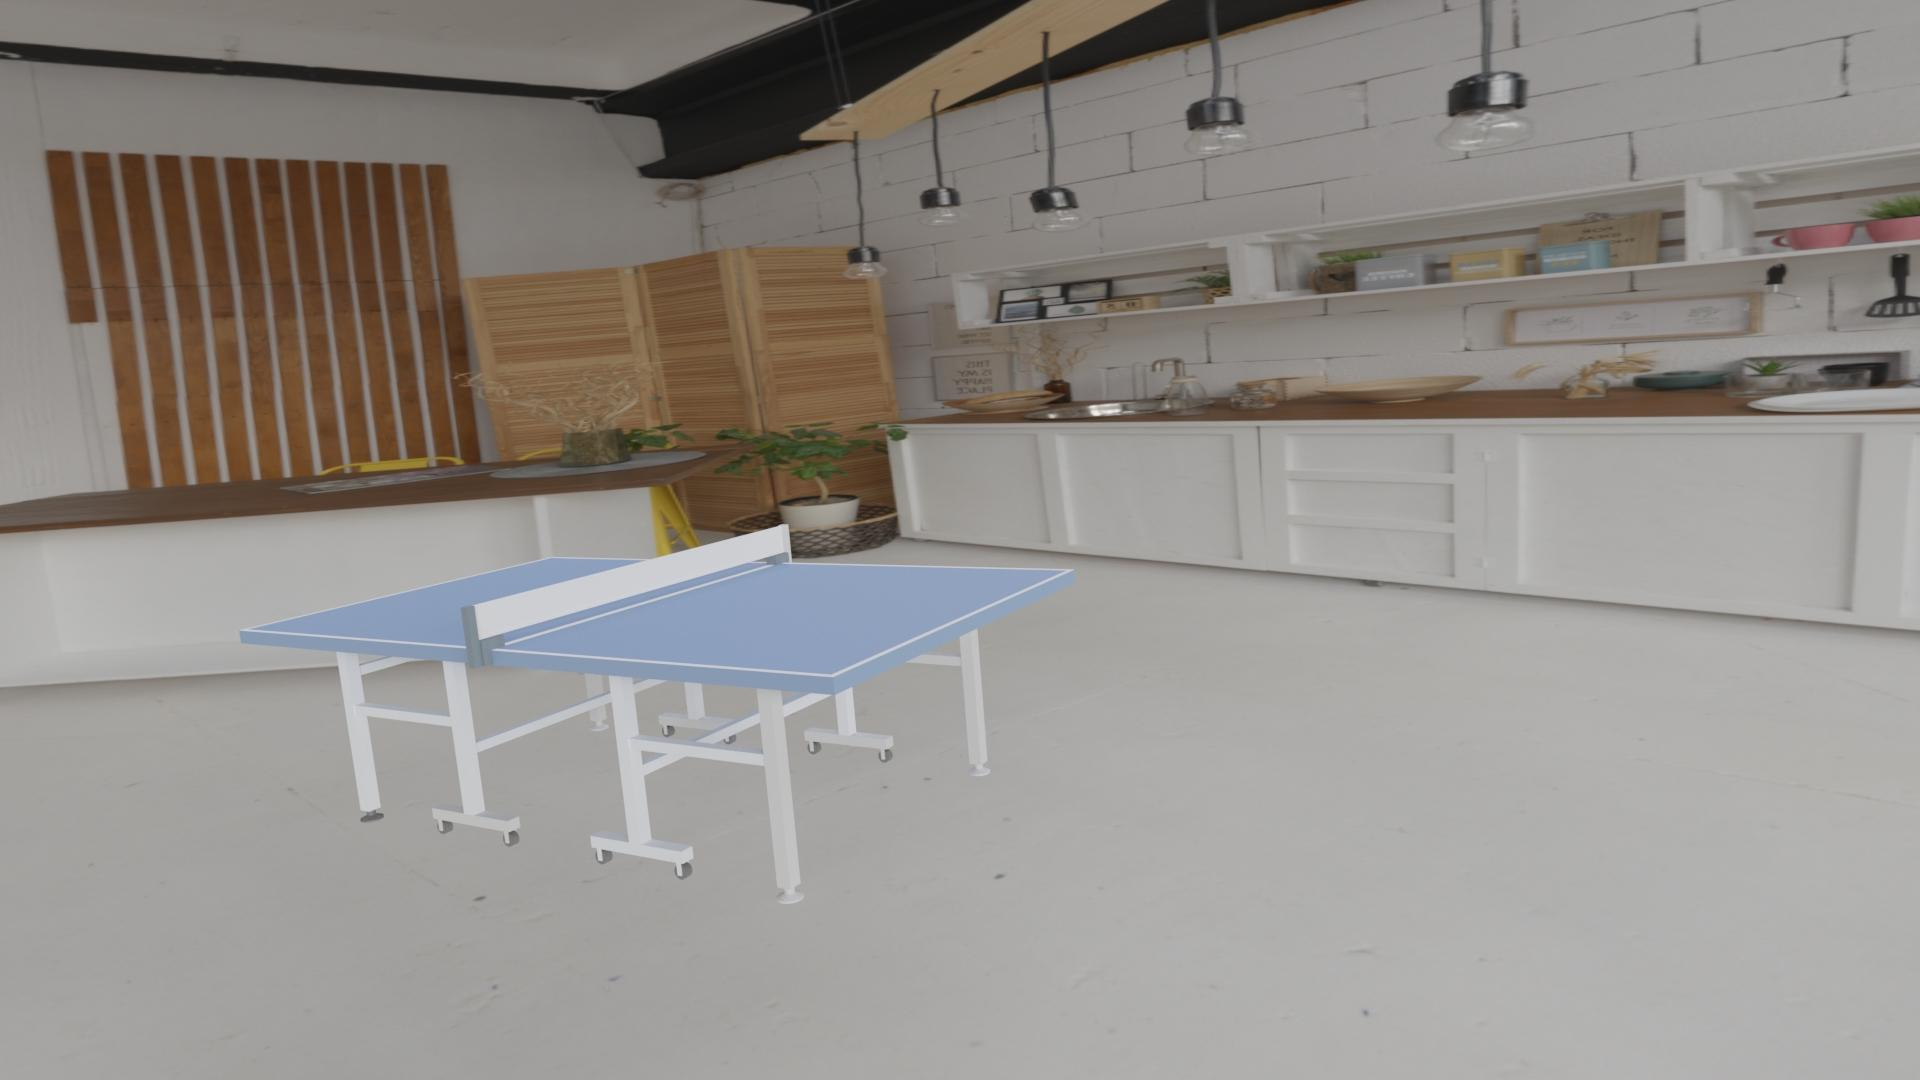table: (248, 558, 1067, 675)
